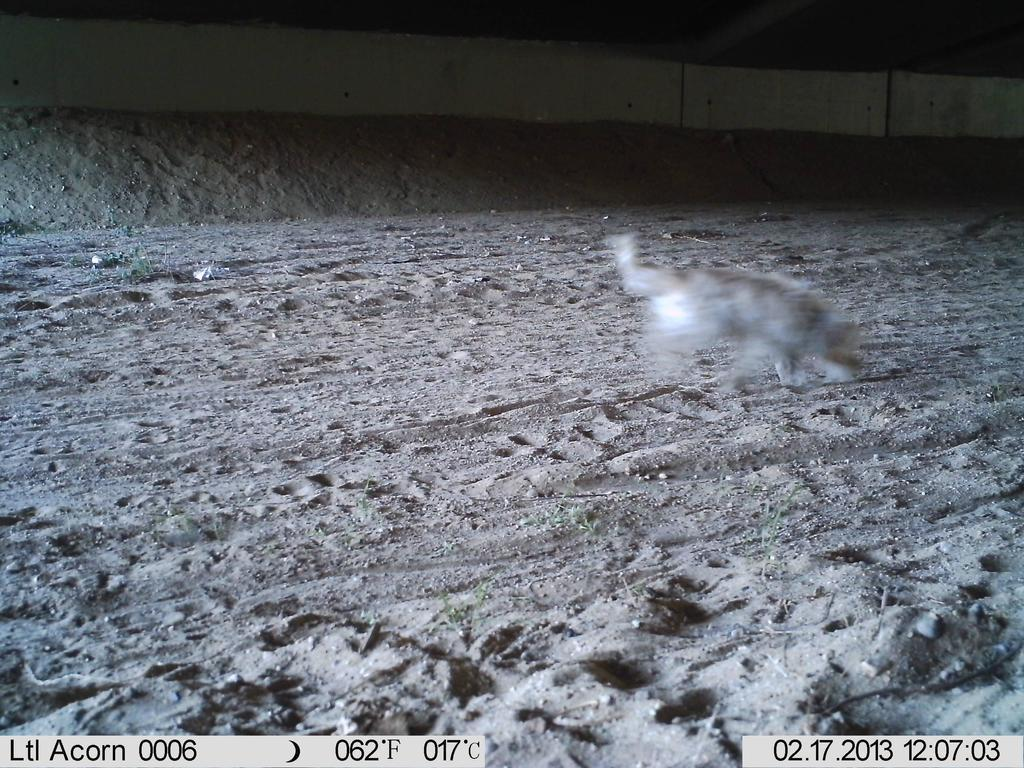dog: (601, 217, 872, 405)
